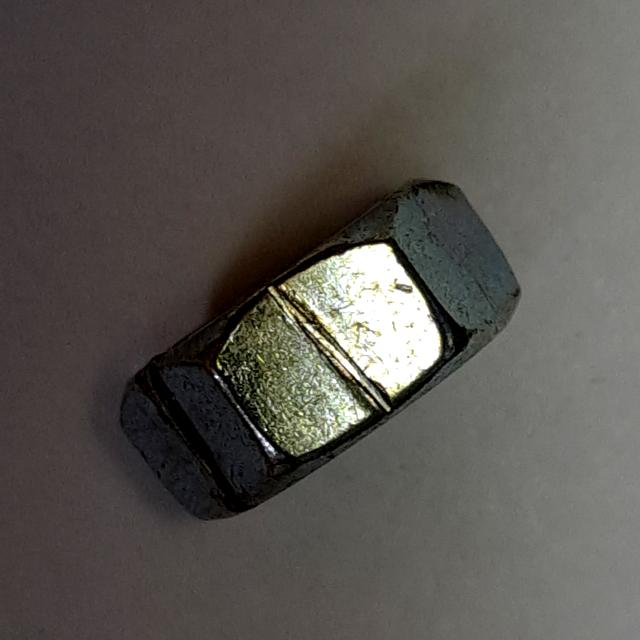Side_Scratches: (105, 171, 532, 536)
